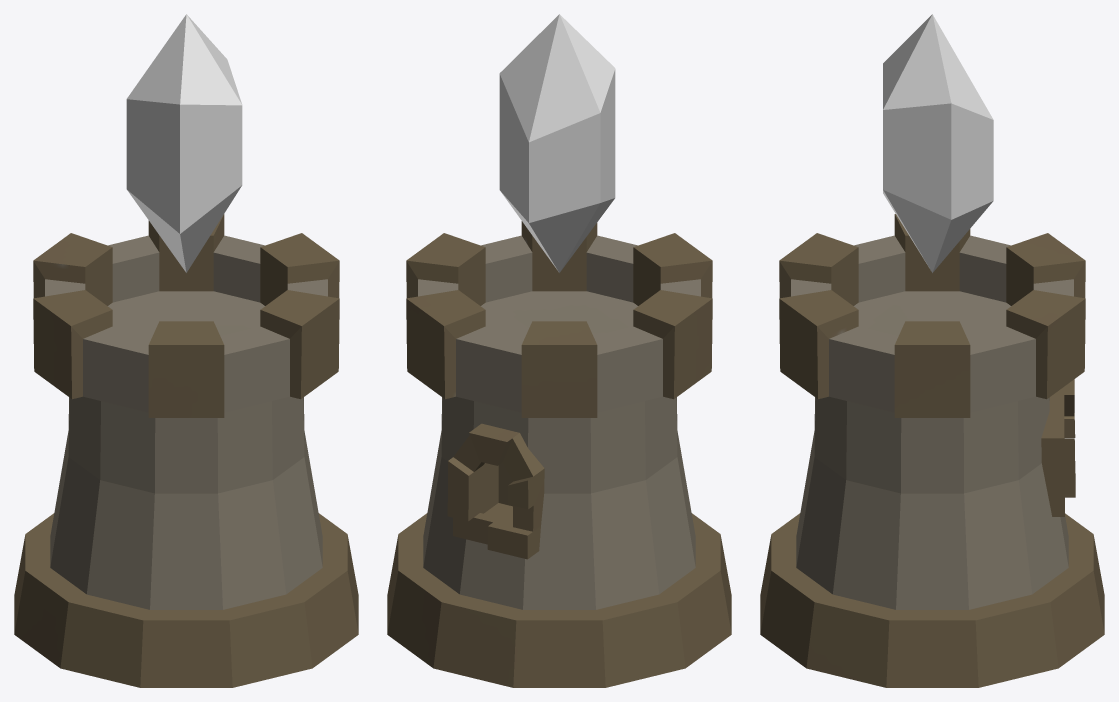
Rendered from Turret4.fbx.
3 renders of one model, left to right at view 1: azimuth 30°, elevation 25°; view 2: azimuth 150°, elevation 25°; view 3: azimuth 270°, elevation 25°, orthographic.
Parts seen in each view (by area): view 1: Circle.001, Sphere; view 2: Circle.001, Sphere, Circle.002; view 3: Circle.001, Sphere, Circle.002.
Part boxes in pixels (left/top/right/bottom): Circle.001: left=14, top=214, right=358, bottom=687; Sphere: left=126, top=14, right=242, bottom=272; Circle.001: left=387, top=221, right=731, bottom=687; Sphere: left=499, top=14, right=615, bottom=272; Circle.002: left=447, top=423, right=544, bottom=559; Circle.001: left=760, top=214, right=1104, bottom=687; Sphere: left=883, top=14, right=993, bottom=272; Circle.002: left=1041, top=379, right=1075, bottom=516.
Bounding box in the file's own units: 241 × 464 × 241.
